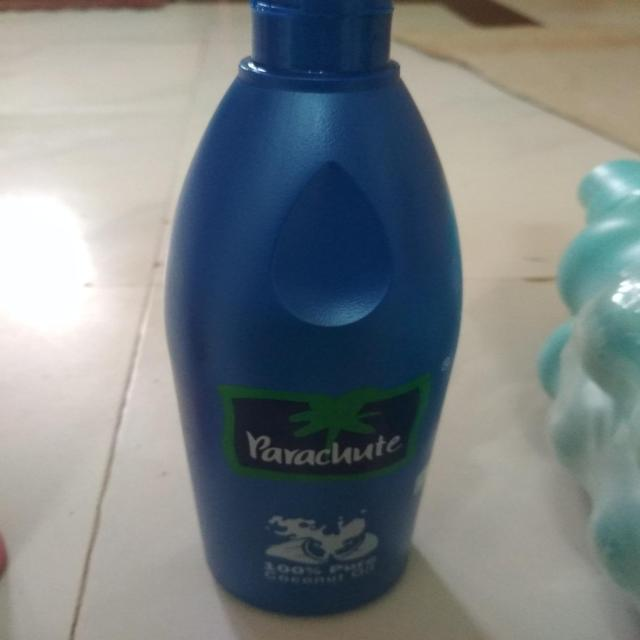parachute_oil: (159, 0, 482, 620)
